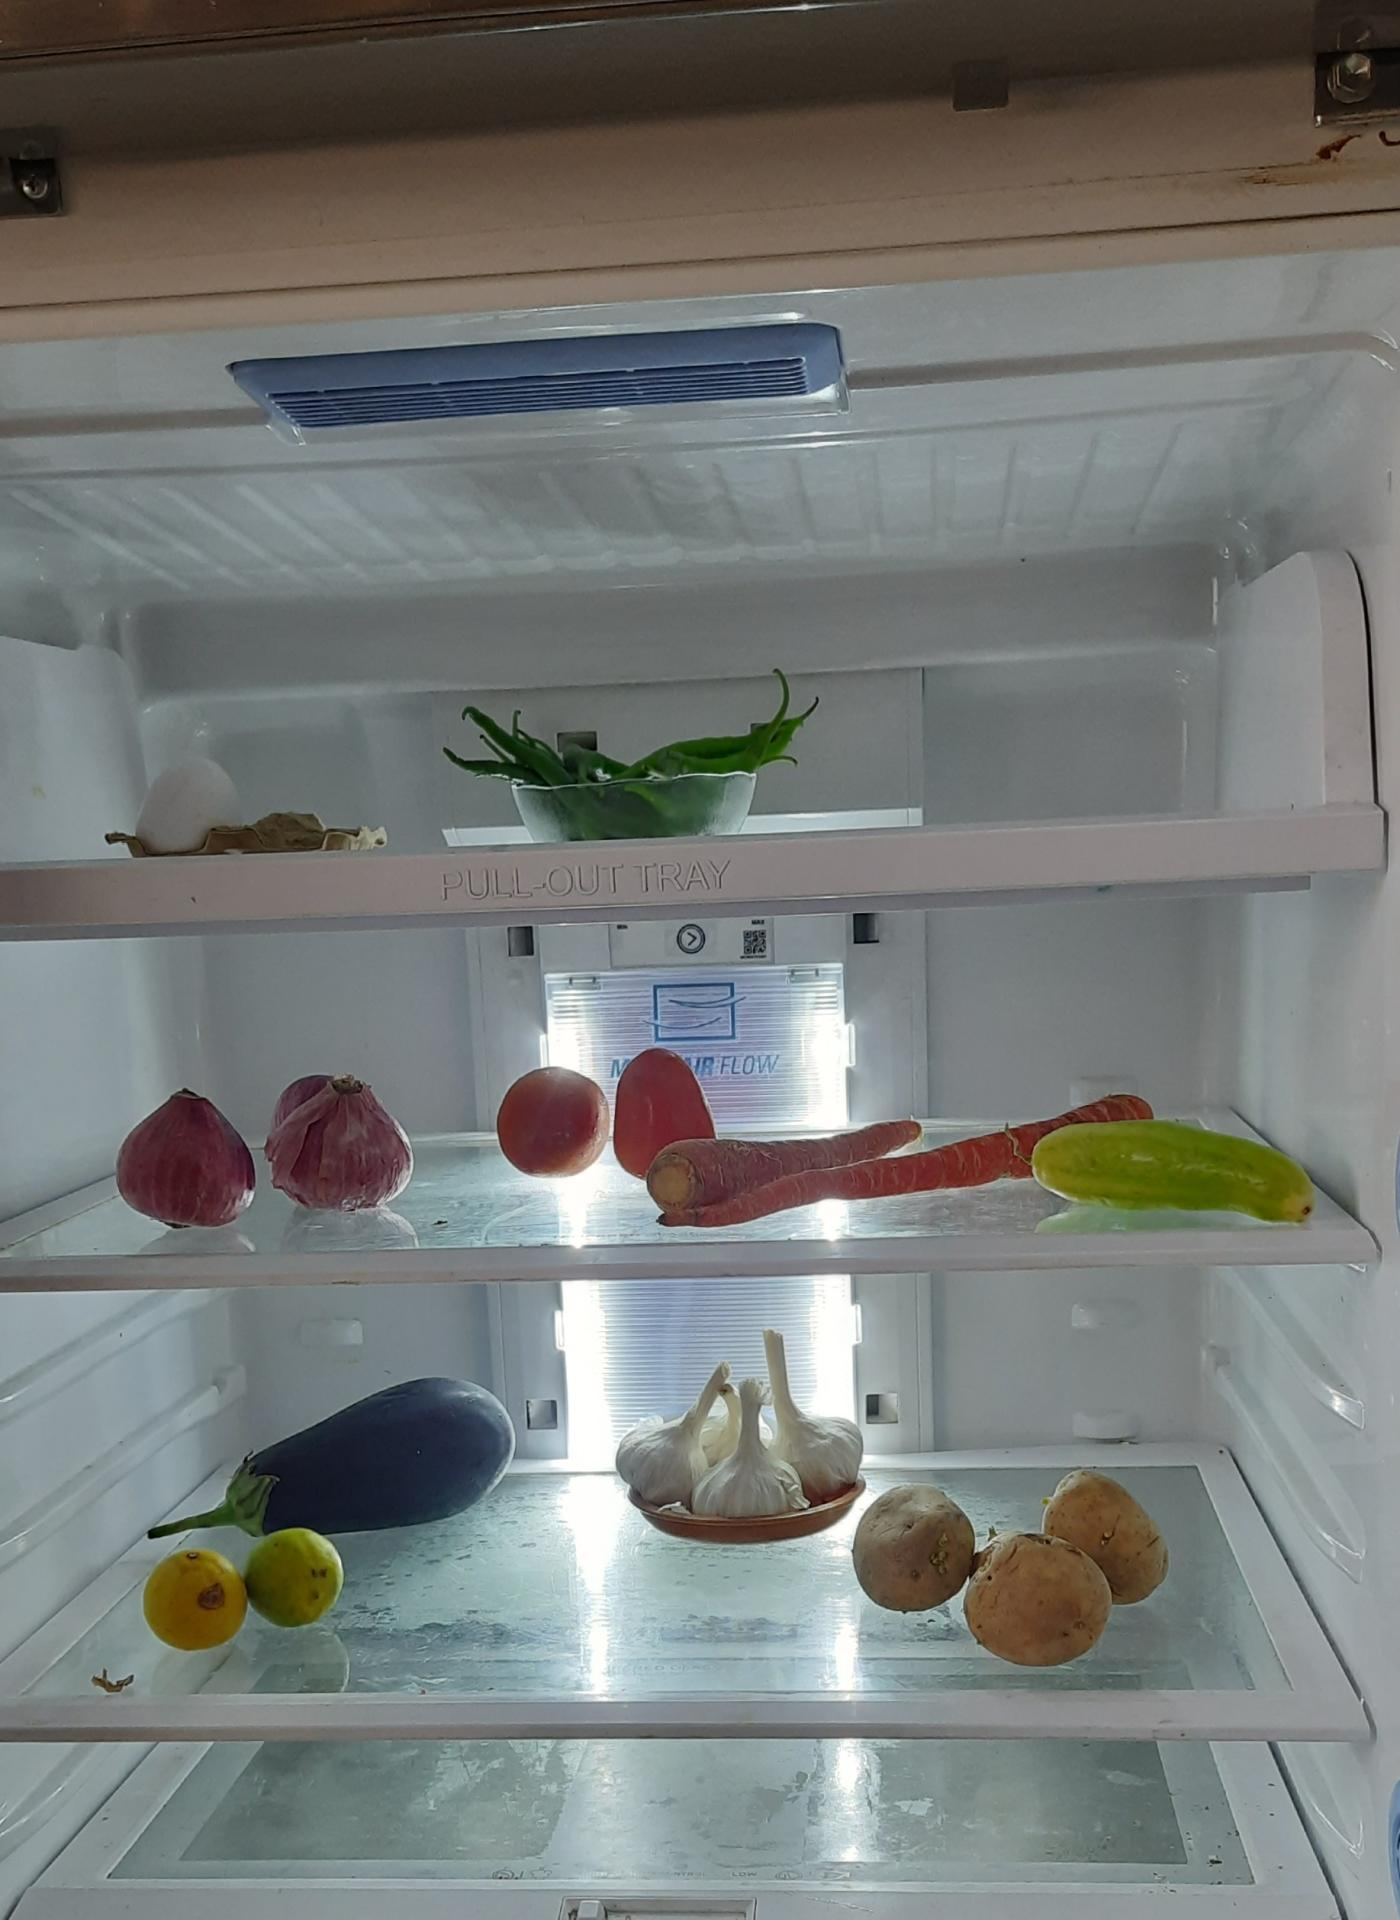brinjal: (176, 1377, 531, 1538)
carrots: (614, 1120, 1121, 1245)
chillies: (462, 692, 810, 838)
cucumber: (1041, 1112, 1328, 1219)
egg: (115, 730, 274, 871)
garlic: (617, 1313, 871, 1523)
lemon: (142, 1520, 346, 1658)
onion: (112, 1067, 413, 1231)
potato: (853, 1479, 1166, 1667)
tomato: (605, 1039, 719, 1169), (489, 1060, 607, 1179)
